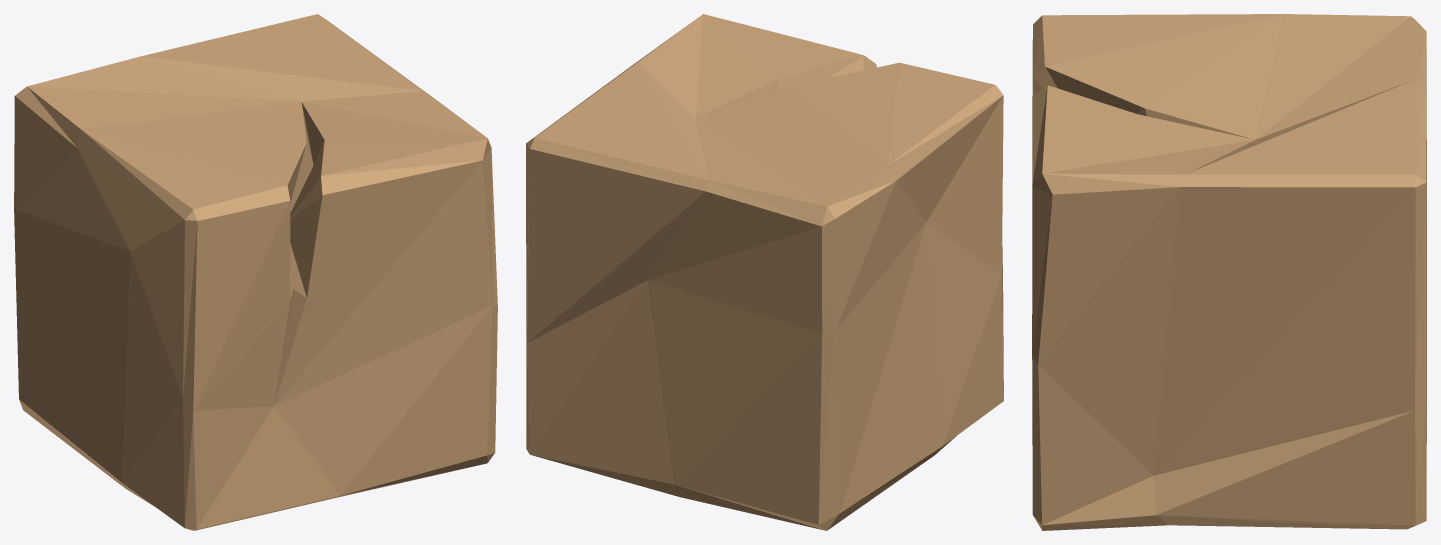
The model's file is Animated_platform.fbx.
The picture shows the model from 3 angles, left to right: view 1: azimuth 30°, elevation 25°; view 2: azimuth 150°, elevation 25°; view 3: azimuth 270°, elevation 25°; orthographic projection. The views are drawn at different scales.
Visible parts, largest first — view 1: box6; view 2: box6; view 3: box6.
Part boxes in pixels (x1,y1,x2,y2): box6: [14, 14, 497, 530]; box6: [526, 14, 1003, 530]; box6: [1032, 14, 1426, 530].
Bounding box in the file's own units: 9.97 × 9.95 × 9.94.
